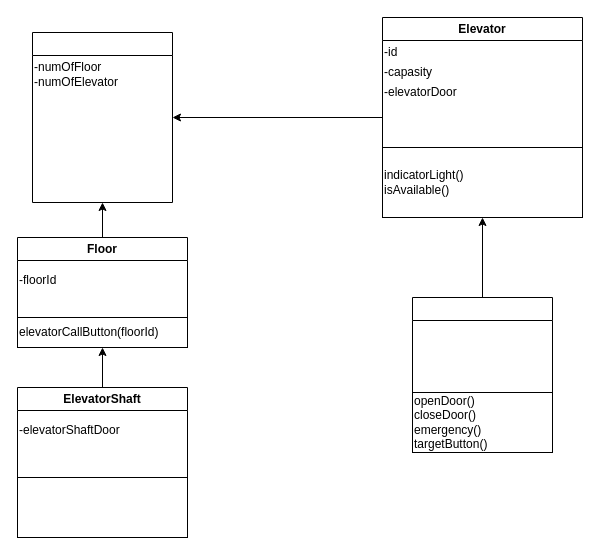
The diagram is 600 pixels wide and 555 high, and some of its shapes have lost their labels. Here are the shapes that lost their labels. From the top down, the box of each, then its label:
(32, 32, 172, 202): Building
(412, 296, 552, 452): ControlPanel
(16, 476, 188, 538): arrivalBell() signalLight()
